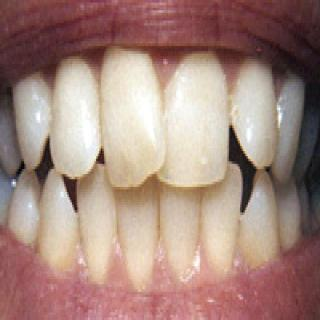LL1BC_healthy: (277, 181, 303, 243)
LLCI_healthy: (160, 188, 201, 270)
LLC_healthy: (239, 169, 280, 256)
LLLI_healthy: (202, 166, 243, 263)
LR1BC_healthy: (9, 169, 41, 245)
LRCI_healthy: (116, 186, 160, 281)
LRC_healthy: (40, 176, 77, 268)
LRLI_healthy: (77, 171, 115, 279)
ULCI_healthy: (160, 53, 229, 186)
ULC_healthy: (275, 75, 304, 182)
ULLI_healthy: (234, 58, 277, 168)
URCI_healthy: (99, 49, 164, 190)
URC_healthy: (13, 76, 51, 170)
URLI_healthy: (50, 59, 99, 178)
